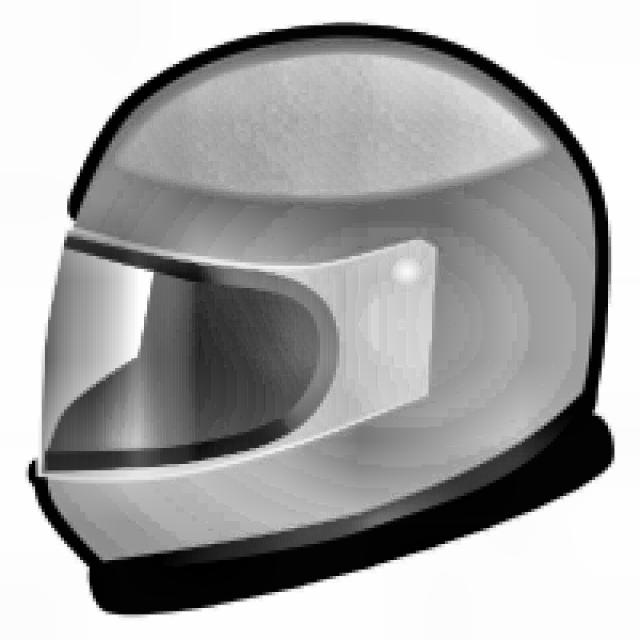Helmet: (34, 29, 609, 570)
